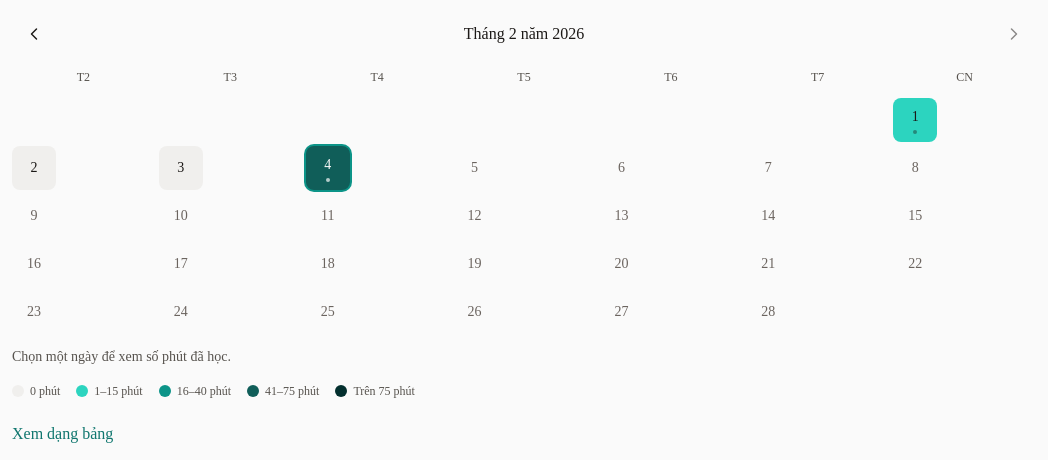
CalendarHeatmap — month view › pages months with a horizontal swipe
Press the mouse on the element named "Lịch học" at point(524, 216), box top-left (12, 98), bottom-right (1036, 334)
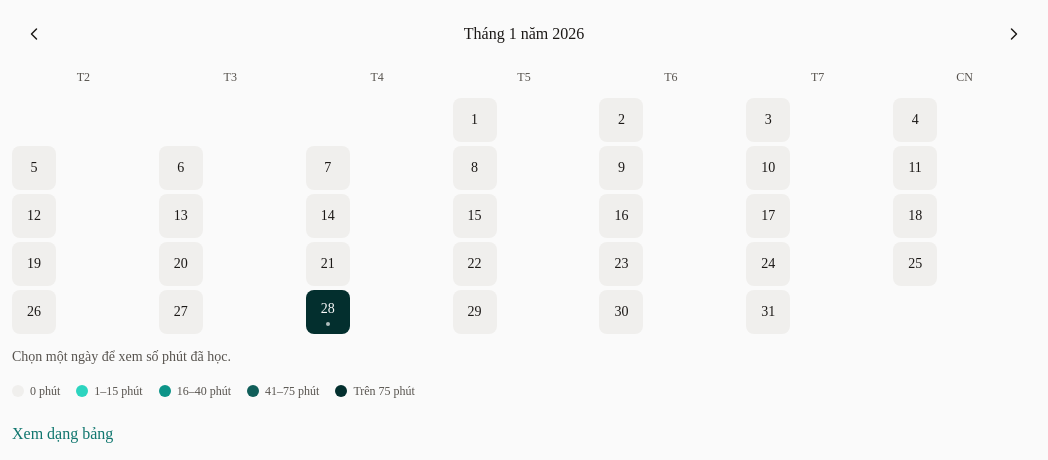
Expected: the text "Tháng 1 năm 2026" is shown, top-left (464, 22), bottom-right (584, 46)
